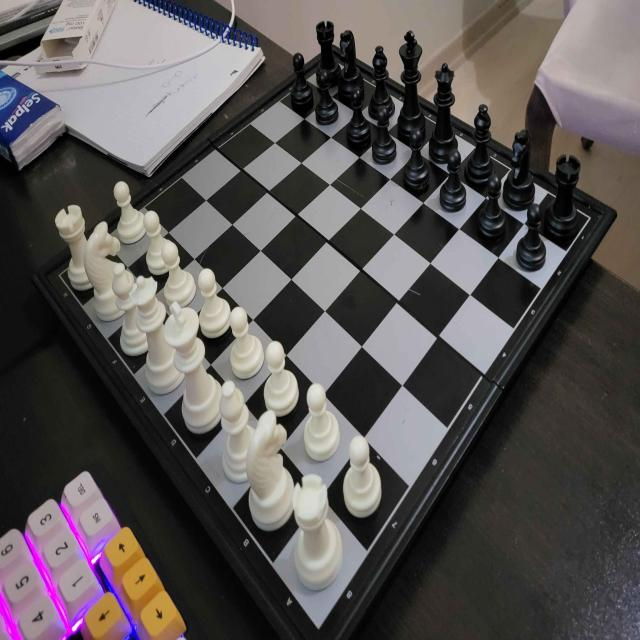black-bishop: (463, 101, 498, 190), (367, 43, 396, 122)
black-king: (398, 29, 427, 144), (427, 60, 459, 163)
black-knight: (502, 125, 538, 210), (339, 28, 365, 98)
black-pawn: (512, 198, 546, 273), (476, 170, 506, 247), (438, 146, 467, 216), (401, 126, 430, 195), (371, 102, 397, 170), (344, 85, 372, 146), (313, 66, 339, 128), (290, 50, 314, 111)
black-rook: (543, 145, 582, 244), (315, 19, 340, 88)
chess-board: (53, 51, 617, 614)
white-bishop: (218, 378, 255, 494), (110, 261, 144, 356)
white-king: (163, 299, 224, 439)
white-knight: (244, 411, 298, 535), (82, 221, 130, 318)
white-pawn: (342, 432, 382, 521), (302, 381, 342, 465), (263, 338, 299, 422), (194, 265, 233, 340), (228, 304, 264, 383), (159, 238, 196, 309), (110, 177, 148, 246), (143, 209, 174, 276)
white-queen: (130, 274, 173, 396)
white-rook: (290, 472, 345, 598), (56, 201, 90, 301)
